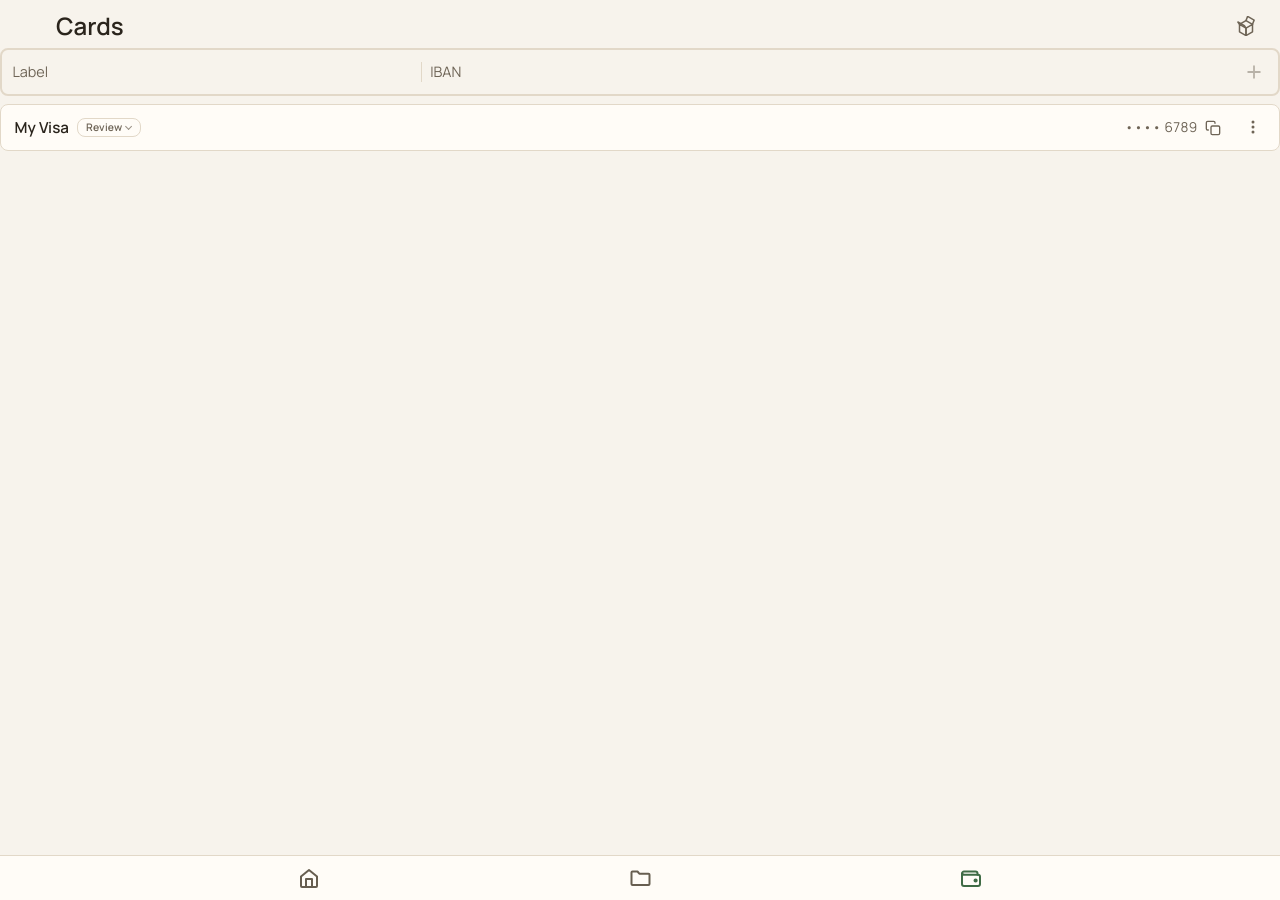
Test: CardsPanel › toggling to archived hides the form and fetches/renders archived cards
Click the button named "Show archived cards": (1246, 26) [1232, 12, 1260, 40]
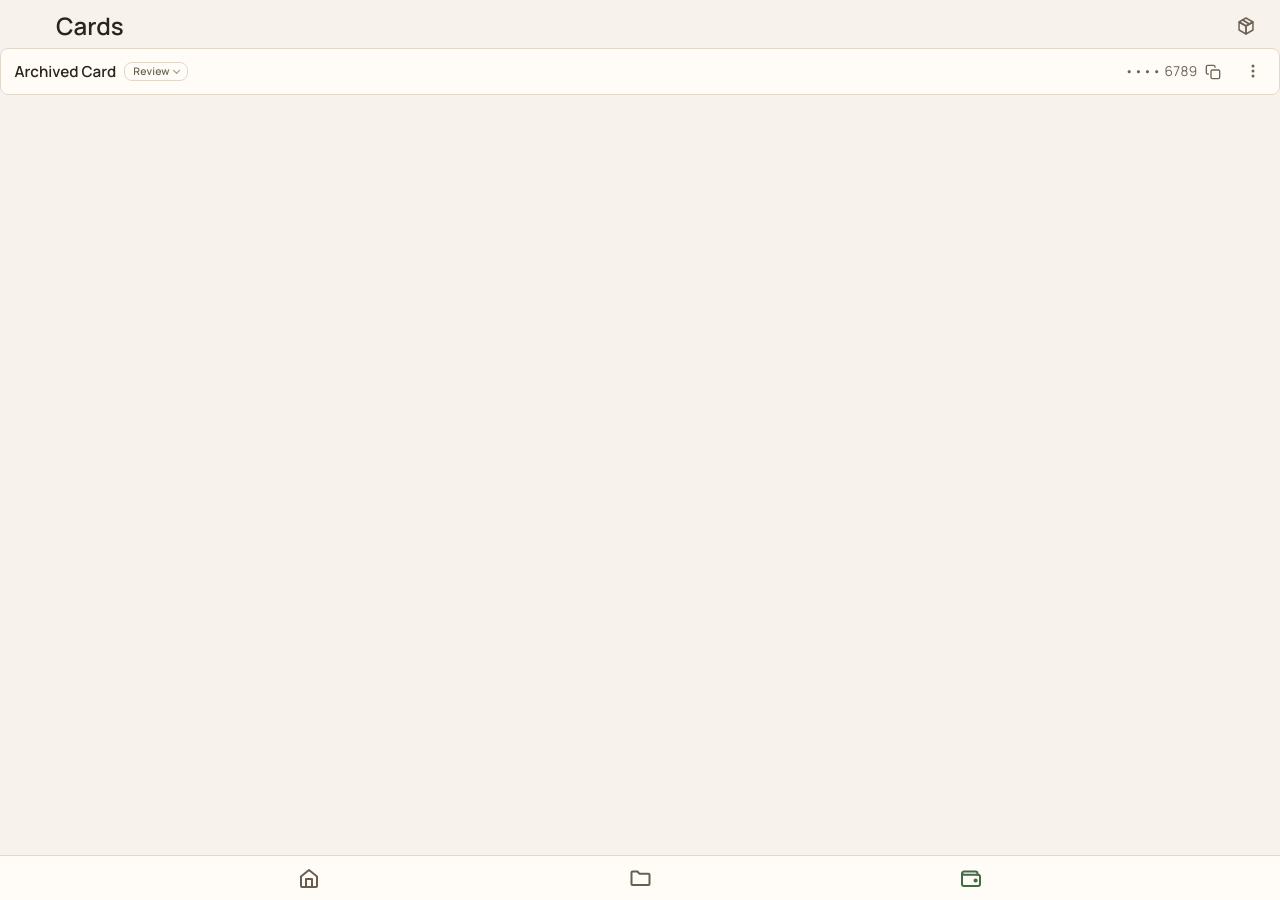
Check: the form is gone
